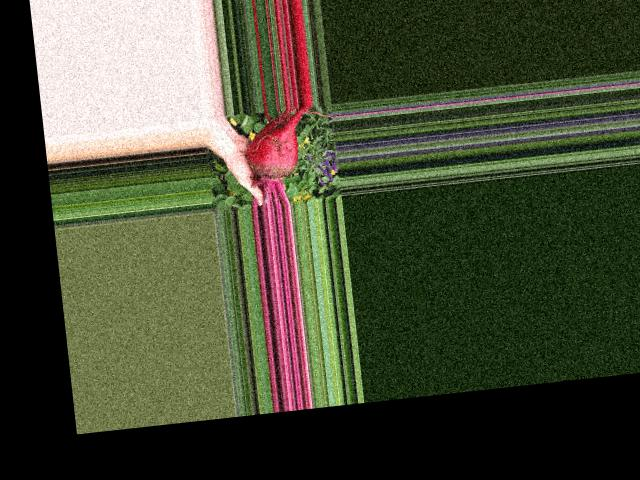beet: (242, 105, 322, 207)
